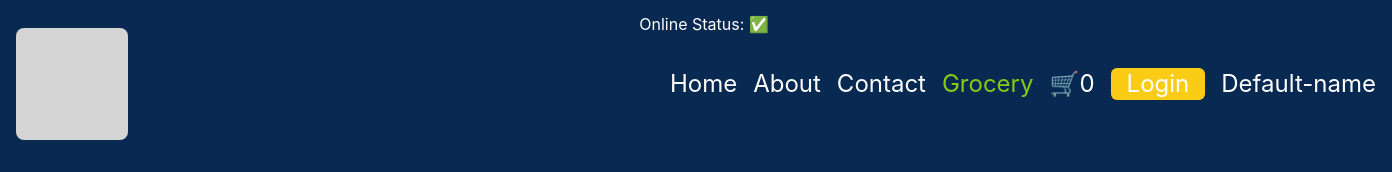
Test: Should render cart with 0 items and login btn change to logout on click event › Should change login button to logout on click event
Click the button "Login".
click(1158, 84)  # box [1111,68,1205,100]
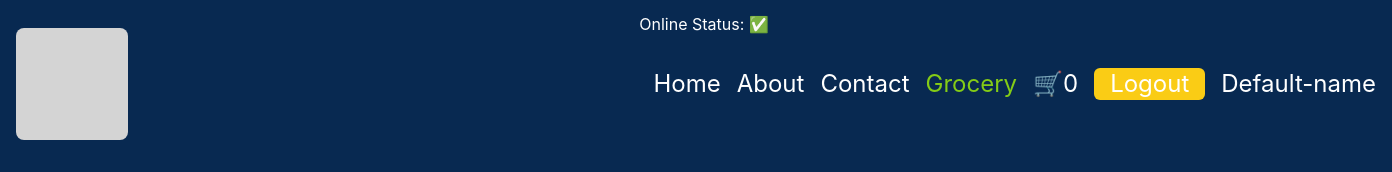
Check: the button "Logout" is shown, box [1094,68,1205,100]
